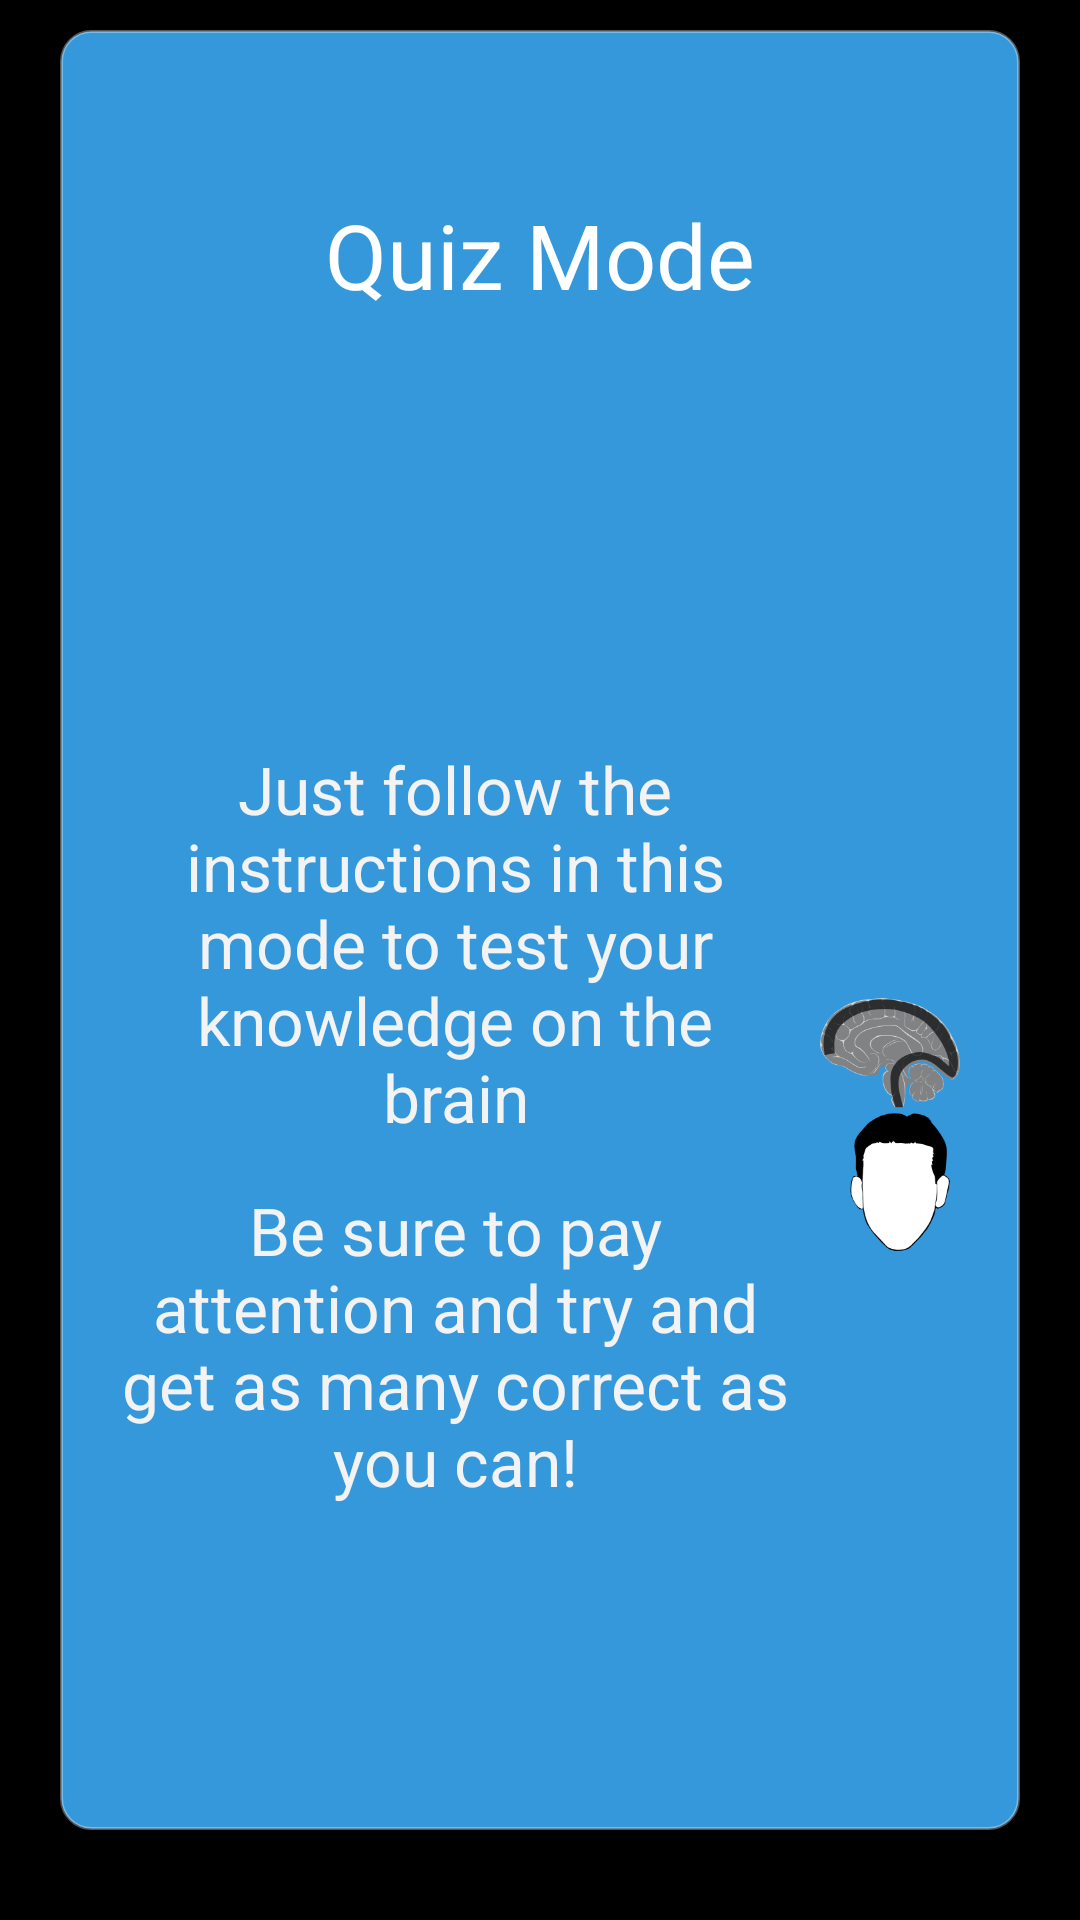

Where to tap for icons on this 1080*1920 app screen, as point (x, y):
questionbrain: point (890, 1124)
